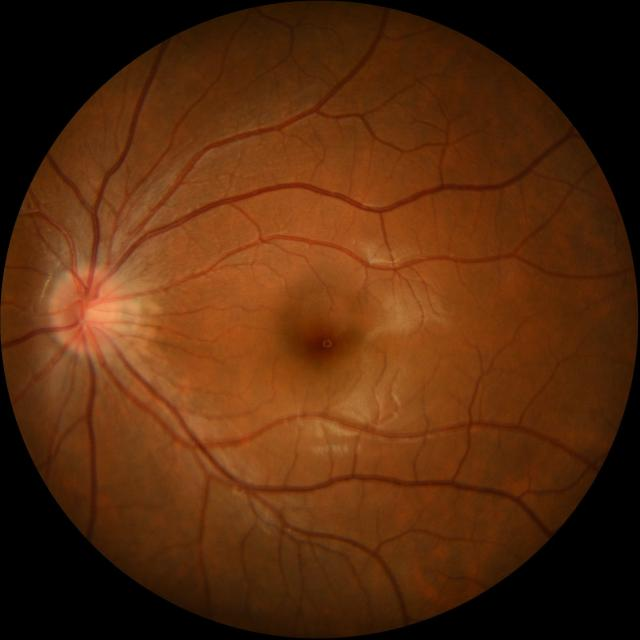OC: (81, 300, 108, 330)
OD: (54, 269, 124, 348)
